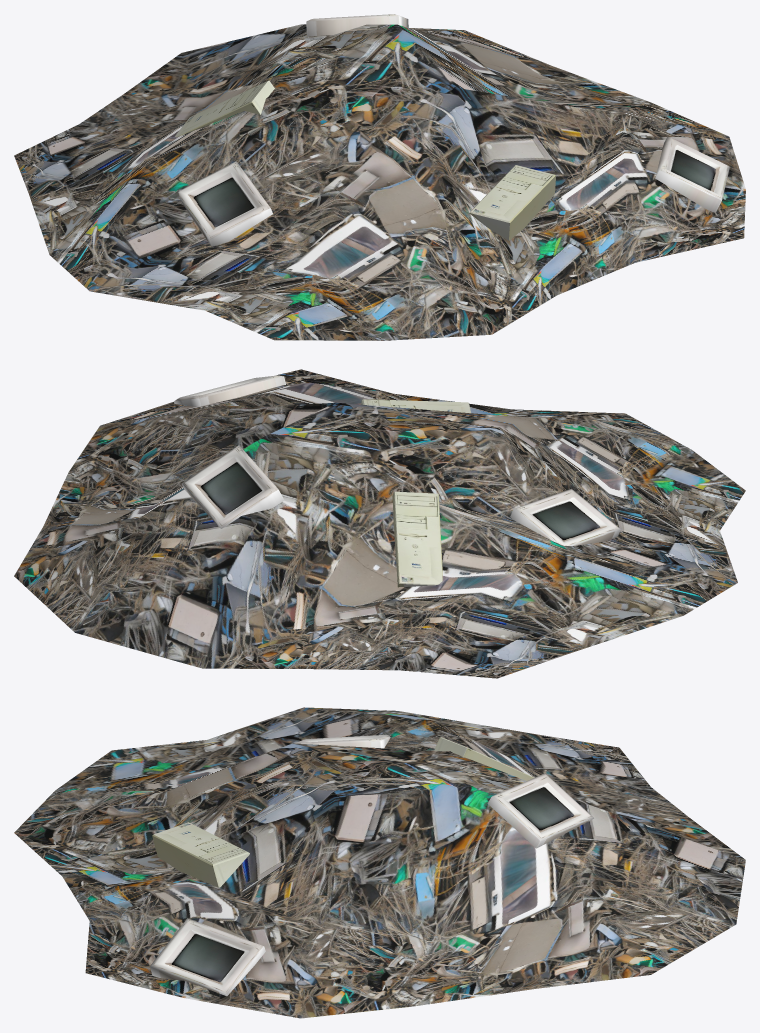
File: trash_pile_large.fbx
3 renders of one model, top to bottom at view 1: azimuth 30°, elevation 25°; view 2: azimuth 150°, elevation 25°; view 3: azimuth 270°, elevation 25°, orthographic.
Visible parts, largest first — view 1: Plane; view 2: Plane; view 3: Plane.
Part boxes in pixels (box(x1,y1,x2,y2)): Plane: box(14, 14, 745, 340); Plane: box(14, 369, 745, 678); Plane: box(14, 707, 745, 1018).
Bounding box in the file's own units: 530 × 93.01 × 527.
